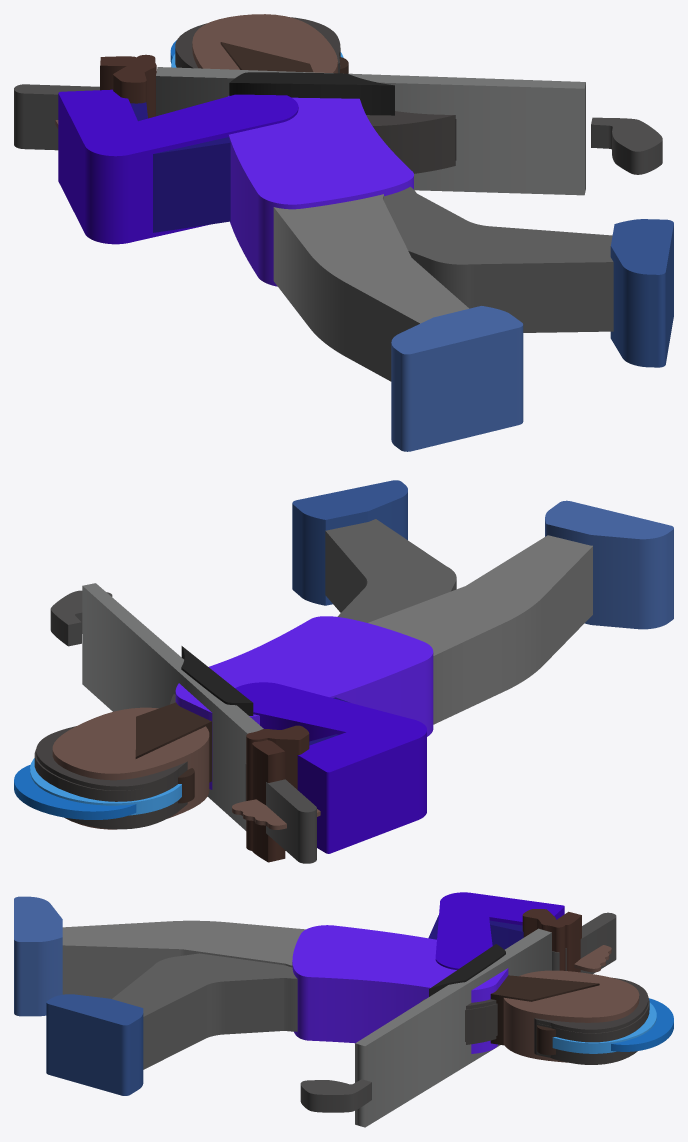
The model's file is emoji_u1f3cc_1f3ff_200d_2640.glb.
3 renders of one model, top to bottom at view 1: azimuth 30°, elevation 25°; view 2: azimuth 150°, elevation 25°; view 3: azimuth 270°, elevation 25°, orthographic. The views are drawn at different scales.
Visible parts, largest first — view 1: emoji_u1f3cc_1f3ff_200d_2640; view 2: emoji_u1f3cc_1f3ff_200d_2640; view 3: emoji_u1f3cc_1f3ff_200d_2640.
Part boxes in pixels (left/top/right/bottom): emoji_u1f3cc_1f3ff_200d_2640: left=14, top=14, right=673, bottom=451; emoji_u1f3cc_1f3ff_200d_2640: left=14, top=480, right=673, bottom=863; emoji_u1f3cc_1f3ff_200d_2640: left=14, top=892, right=673, bottom=1127.
Bounding box in the file's own units: 0.0216 × 0.0052 × 0.0338.
